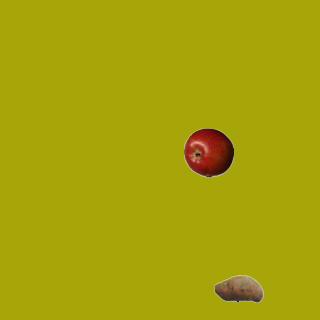Apple Braeburn: (183, 127, 233, 177)
Potato Sweet: (213, 263, 263, 313)
